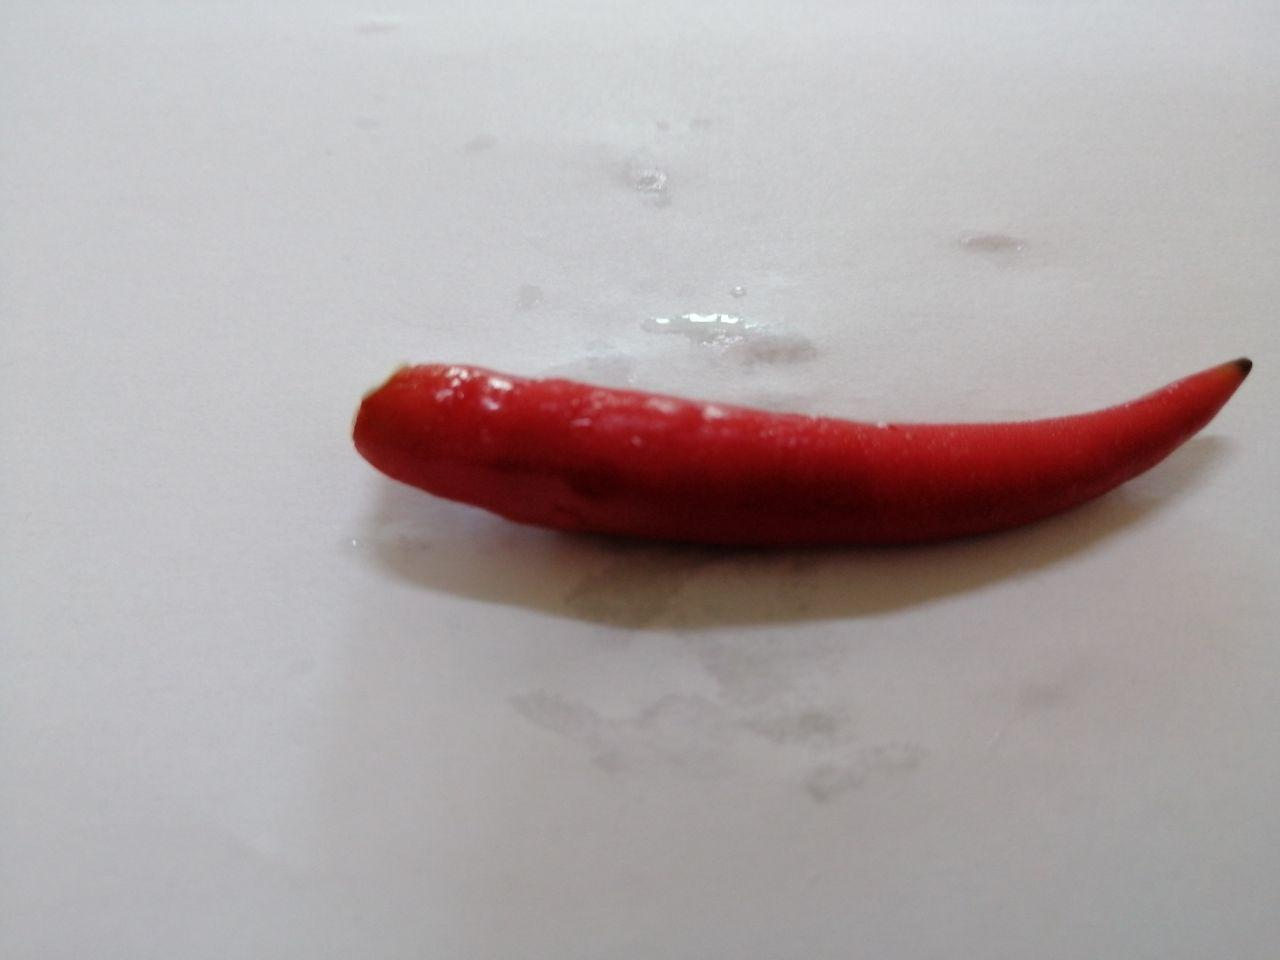lada merah: (334, 290, 1280, 573)
